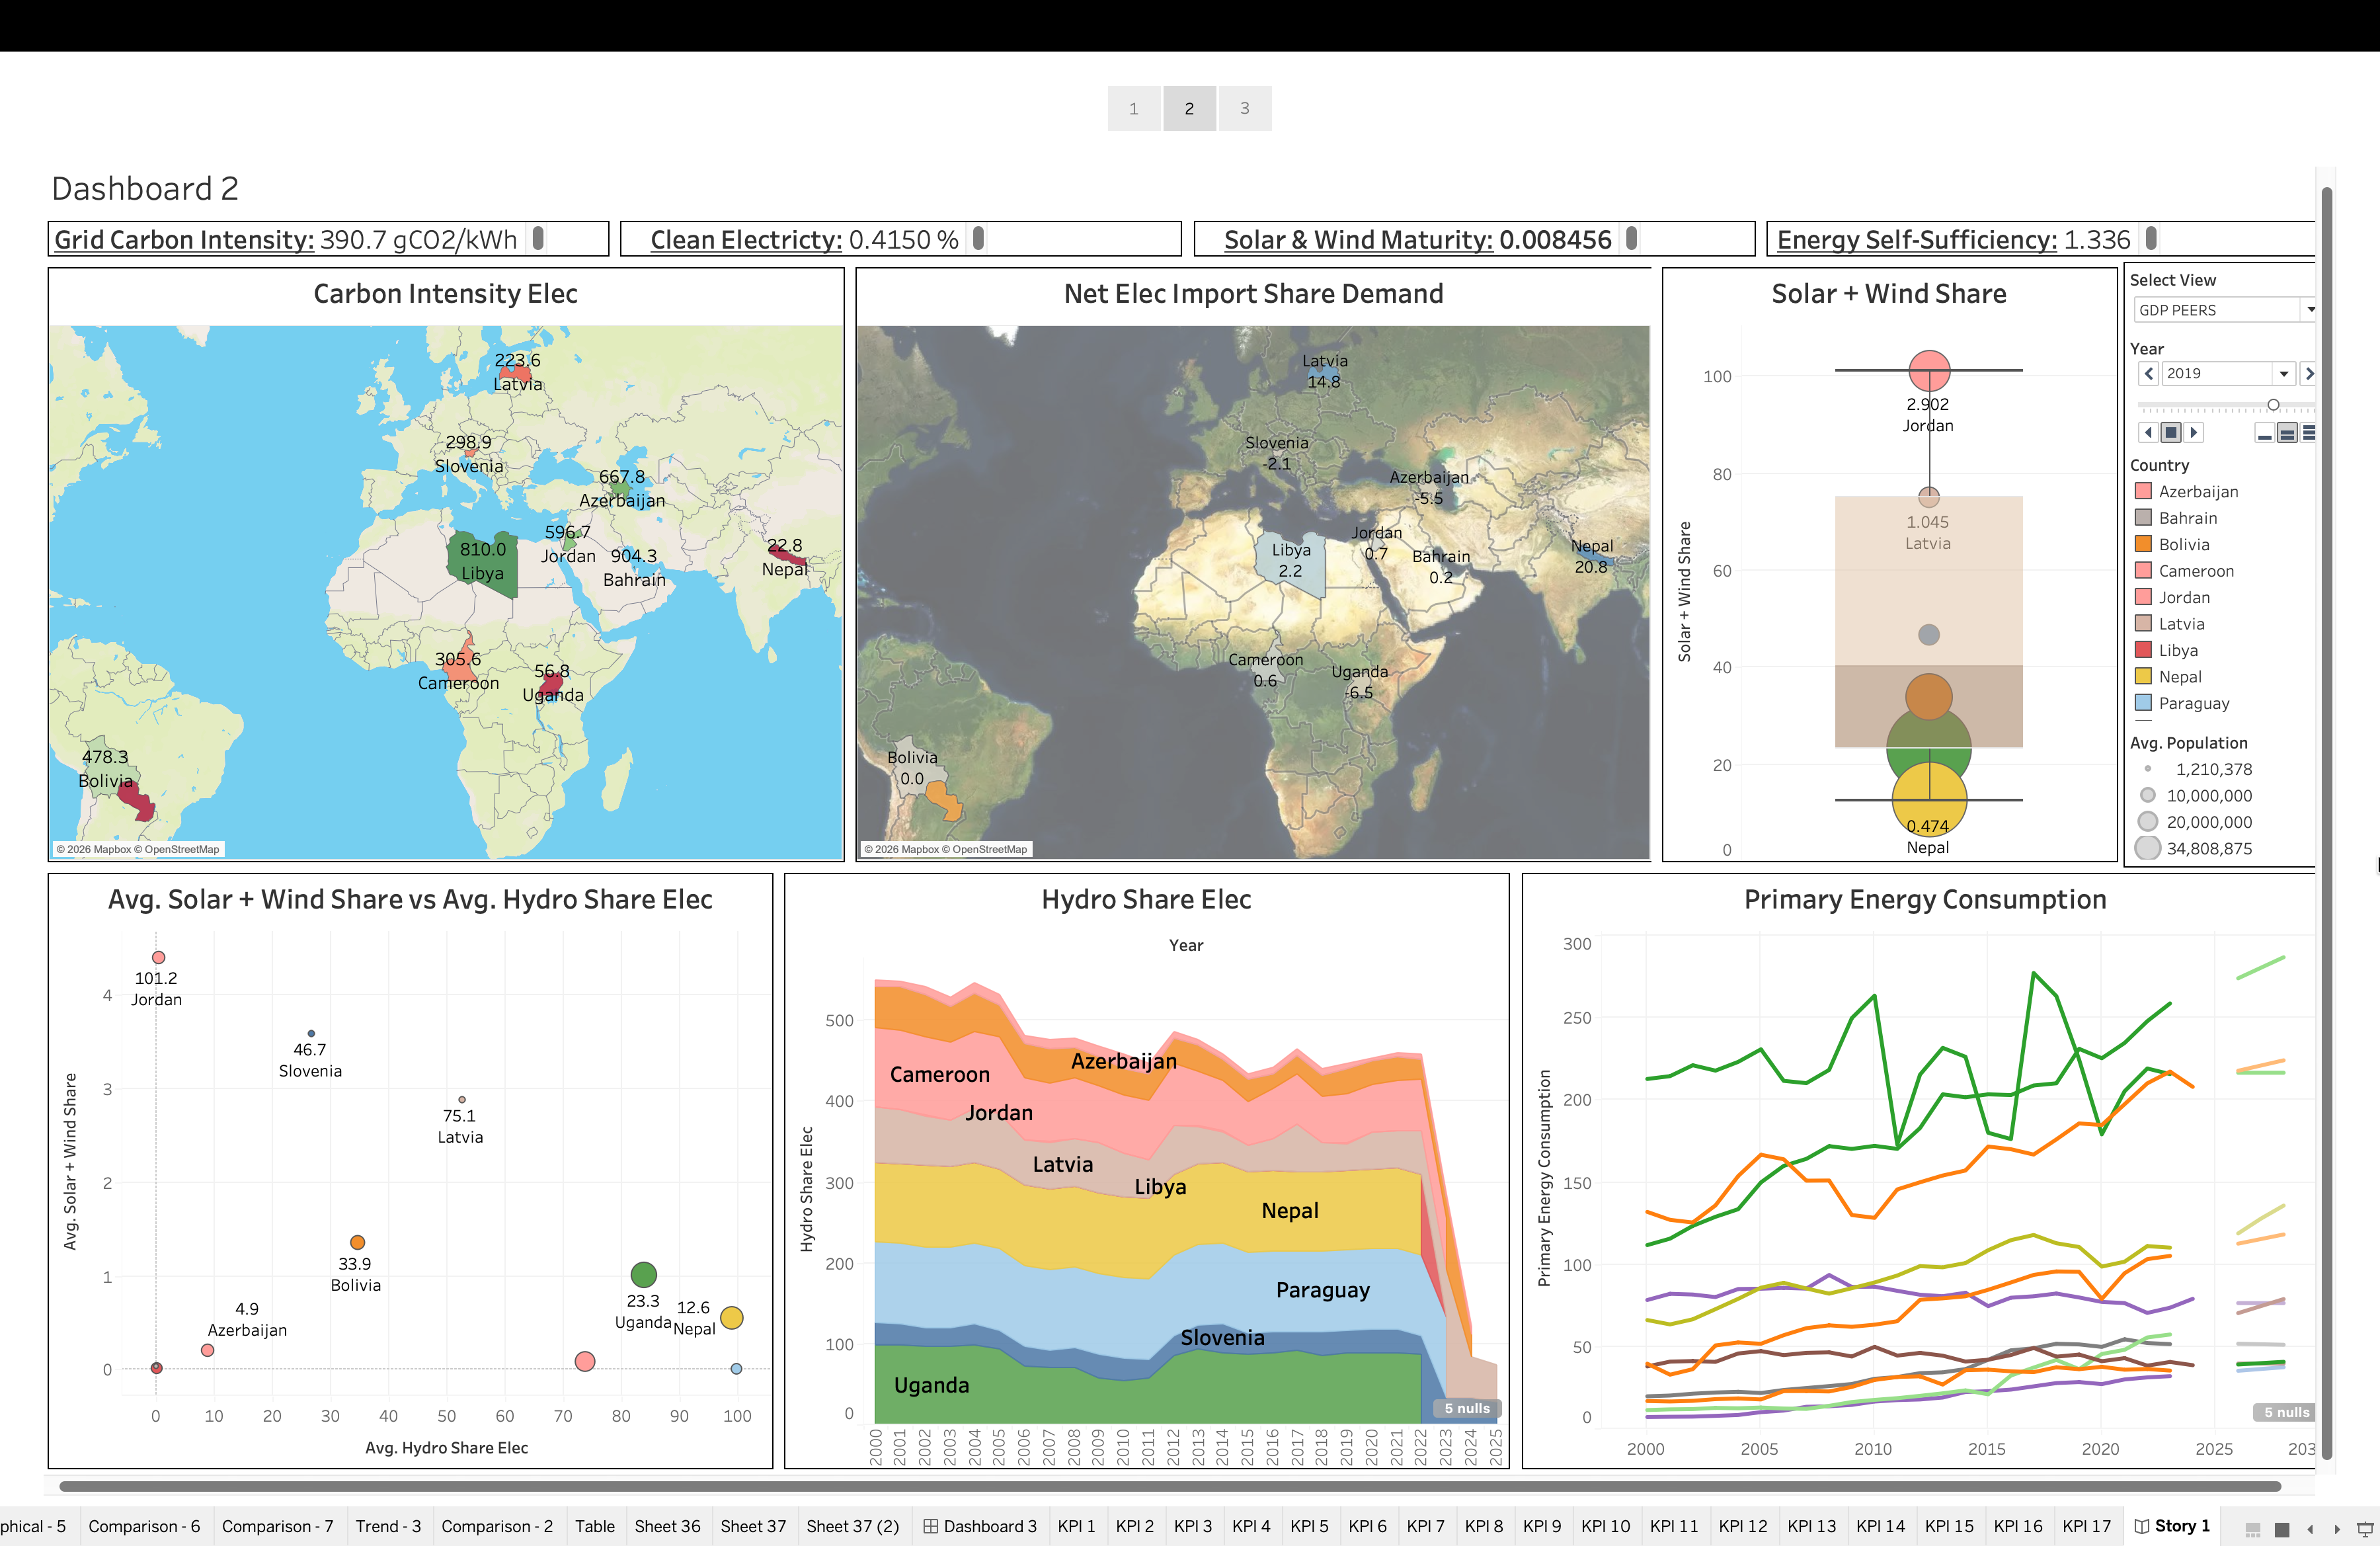

This screenshot's page, from the dashboard's own definition file:
{"tool":"tableau","page":{"name":"Dashboard 2","canvas":[1750,1010],"ordinal":1},"visuals":[{"type":"title","box":[8,8,1734,42]},{"type":"worksheet","title":"KPI 10","mark":"Automatic","box":[8,50,433.5,35]},{"type":"worksheet","title":"KPI 11","mark":"Automatic","box":[441.5,50,433.5,35]},{"type":"worksheet","title":"KPI 12","mark":"Automatic","box":[875,50,433.5,35]},{"type":"worksheet","title":"KPI 13","mark":"Automatic","box":[1308.5,50,433.5,35]},{"type":"worksheet","title":"Geographical - 3","mark":"Automatic","box":[8,85,610.6,458.4]},{"type":"worksheet","title":"Geographical - 4","mark":"Automatic","box":[618.6,85,610.6,458.4]},{"type":"worksheet","title":"Distribution - 4","mark":"Circle","rows":["CF (copy 2)_1848531625644032"],"cols":["CF (copy) (copy)_1801458660552704"],"box":[1229.2,85,352.8,458.4]},{"type":"parameter","param":"[Parameters].[Parameter 5]","box":[1583,86,158,52]},{"type":"currpage","title":"Geographical - 3","box":[1583,138,158,88]},{"type":"legend","title":"Relationship - 5","param":"[federated.0qilly508yxdw615ldf7t1qhfyta].[none:country:nk]","box":[1583,226,158,210.4]},{"type":"legend","title":"Relationship - 5","param":"[federated.0qilly508yxdw615ldf7t1qhfyta].[avg:population:qk]","box":[1583,436.4,158,106]},{"type":"worksheet","title":"Relationship - 5","mark":"Circle","rows":["CF (copy 2)_1848531625644032"],"cols":["hydro_share_elec"],"box":[8,543.4,557.3,458.6]},{"type":"worksheet","title":"Composition - 6","mark":"Area","rows":["hydro_share_elec"],"cols":["year"],"box":[565.2,543.4,557.3,458.6]},{"type":"worksheet","title":"Composition - 5","mark":"Automatic","rows":["primary_energy_consumption"],"cols":["year"],"box":[1122.5,543.4,619.5,458.6]}]}

Visuals, with their boxes on the page's 1750x1010 design canvas (x1, y1, x2, y2). These are canvas units, not pixel positions in the 2380x1546 screenshot, which may show the page scaled, cropped or inside an application window:
title: (8, 8, 1742, 50)
"KPI 10" worksheet: (8, 50, 442, 85)
"KPI 11" worksheet: (442, 50, 875, 85)
"KPI 12" worksheet: (875, 50, 1308, 85)
"KPI 13" worksheet: (1308, 50, 1742, 85)
"Geographical - 3" worksheet: (8, 85, 619, 543)
"Geographical - 4" worksheet: (619, 85, 1229, 543)
"Distribution - 4" worksheet (Circle marks): (1229, 85, 1582, 543)
parameter: (1583, 86, 1741, 138)
"Geographical - 3" currpage: (1583, 138, 1741, 226)
"Relationship - 5" legend: (1583, 226, 1741, 436)
"Relationship - 5" legend: (1583, 436, 1741, 542)
"Relationship - 5" worksheet (Circle marks): (8, 543, 565, 1002)
"Composition - 6" worksheet (Area marks): (565, 543, 1122, 1002)
"Composition - 5" worksheet: (1122, 543, 1742, 1002)
